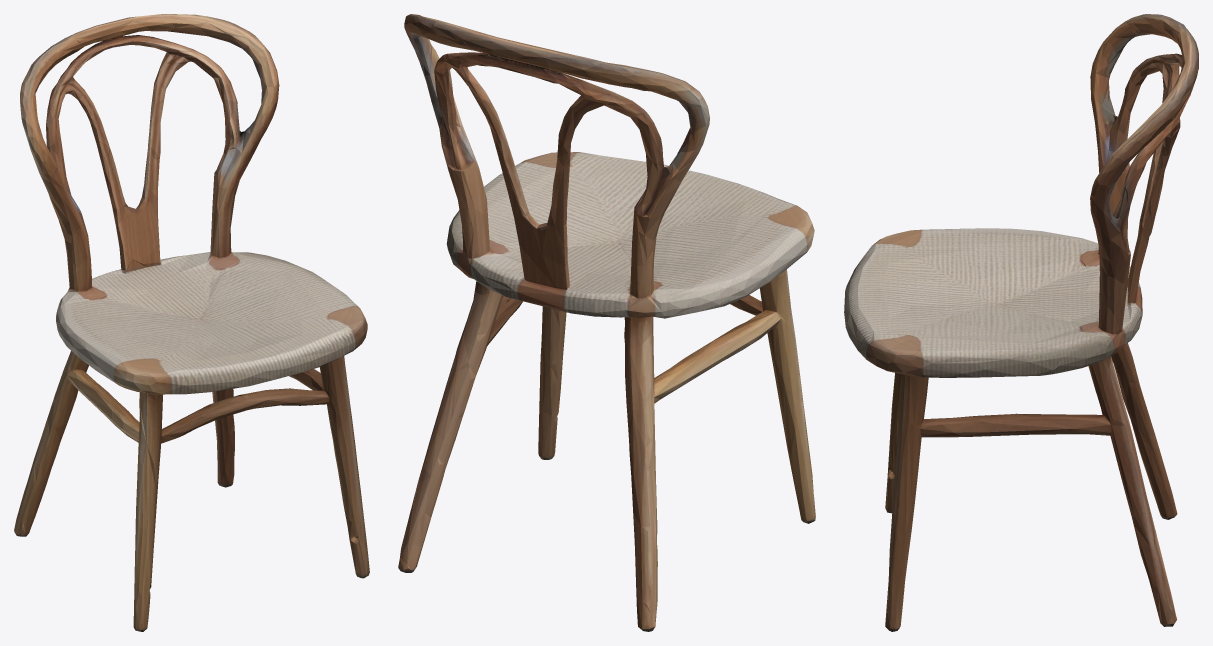
The model's file is chair.glb.
3 renders of one model, left to right at view 1: azimuth 30°, elevation 25°; view 2: azimuth 150°, elevation 25°; view 3: azimuth 270°, elevation 25°, orthographic. The views are drawn at different scales.
Visible parts, largest first — view 1: world; view 2: world; view 3: world.
Boxes of the visible parts, left/top/right/bottom form: world: left=14, top=14, right=369, bottom=631; world: left=398, top=14, right=815, bottom=631; world: left=844, top=14, right=1198, bottom=631.
Size of the model in its own units: 0.548 by 1 by 0.6189.
Materials: 1 (1 with a texture image).
